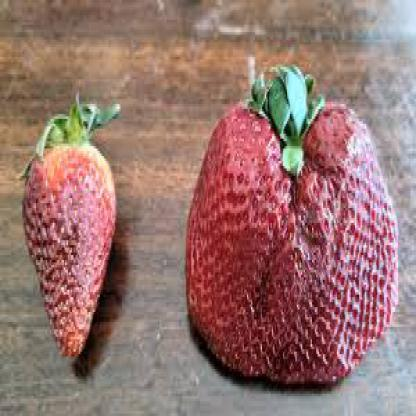strawberry_rotten: (16, 76, 134, 376)
